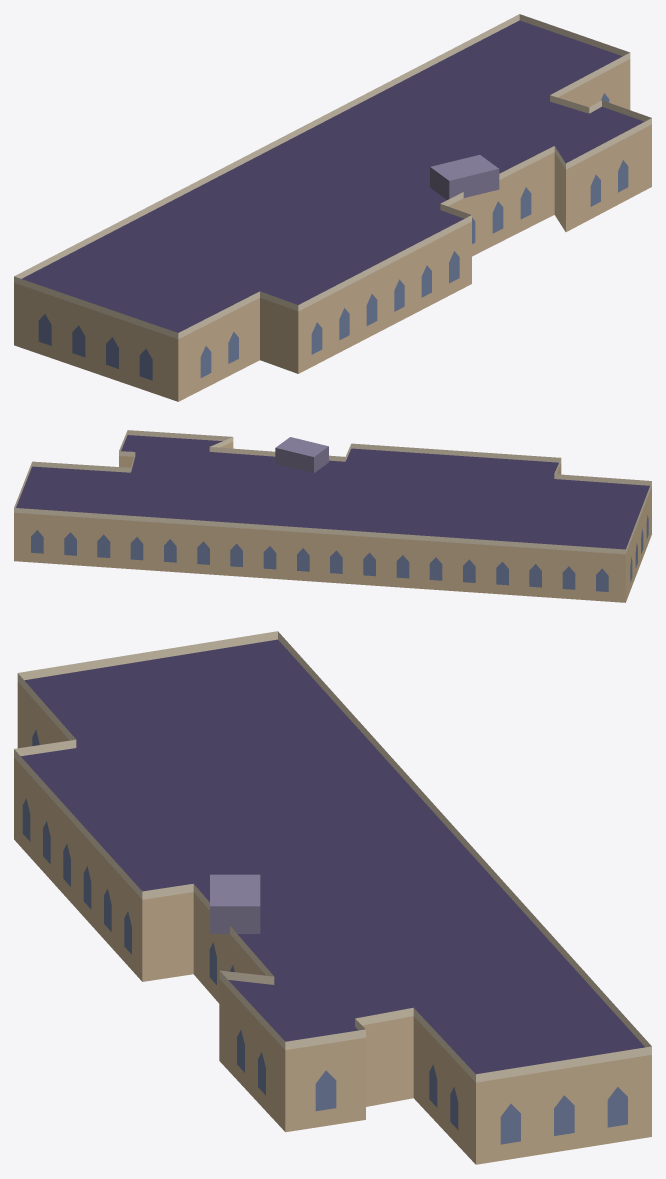
File: b-012-advanced-facility-for-avian-research-day.glb
The picture shows the model from 3 angles, top to bottom: view 1: azimuth 30°, elevation 25°; view 2: azimuth 150°, elevation 25°; view 3: azimuth 270°, elevation 25°; orthographic projection. The views are drawn at different scales.
Parts seen in each view (by area): view 1: campus/b-012-advanced-facility-for-avian-research-day-0; view 2: campus/b-012-advanced-facility-for-avian-research-day-0; view 3: campus/b-012-advanced-facility-for-avian-research-day-0.
Part boxes in pixels (x1=…): campus/b-012-advanced-facility-for-avian-research-day-0: x1=14, y1=14, x2=651, y2=401; campus/b-012-advanced-facility-for-avian-research-day-0: x1=14, y1=430, x2=651, y2=602; campus/b-012-advanced-facility-for-avian-research-day-0: x1=14, y1=631, x2=651, y2=1164.
Bounding box in the file's own units: 62.44 × 7.2 × 37.99.
